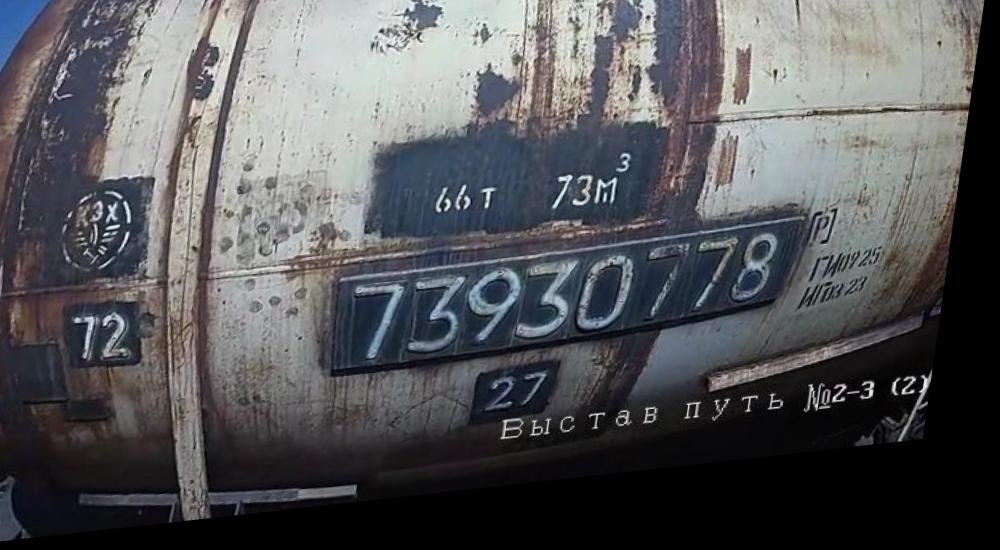Wagon-number: (350, 249, 800, 376)
